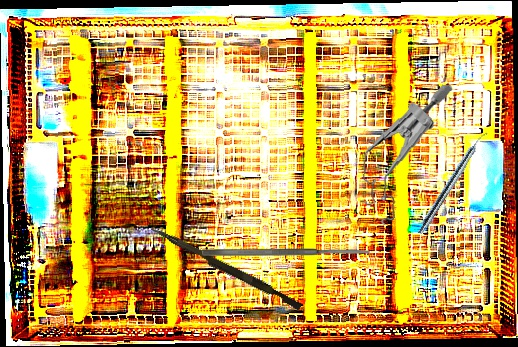Handpiece: (415, 128, 490, 237)
Pusher: (146, 225, 305, 311)
Spatula Surgical: (202, 248, 370, 257)
Speculum: (356, 79, 454, 229)
